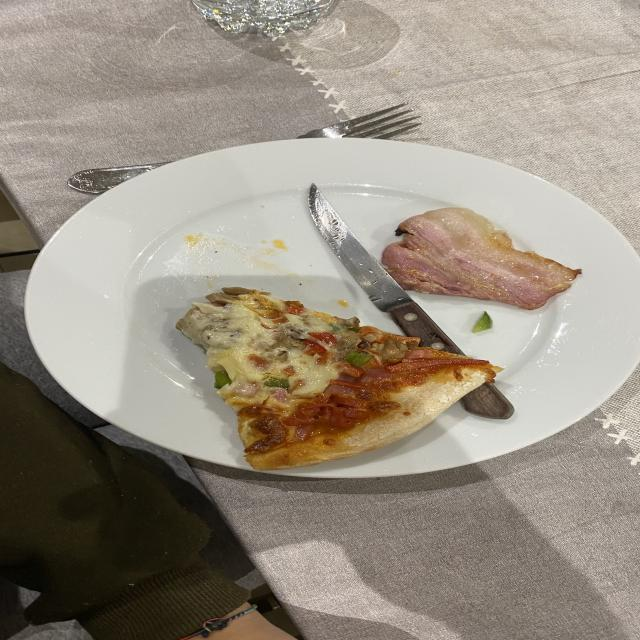bacon: (382, 208, 581, 310)
fork: (296, 103, 420, 139), (67, 162, 169, 195)
garbage: (471, 311, 492, 333)
knife: (309, 184, 464, 355), (460, 381, 514, 419)
pizza: (176, 287, 500, 469)
plate: (25, 138, 640, 478)
